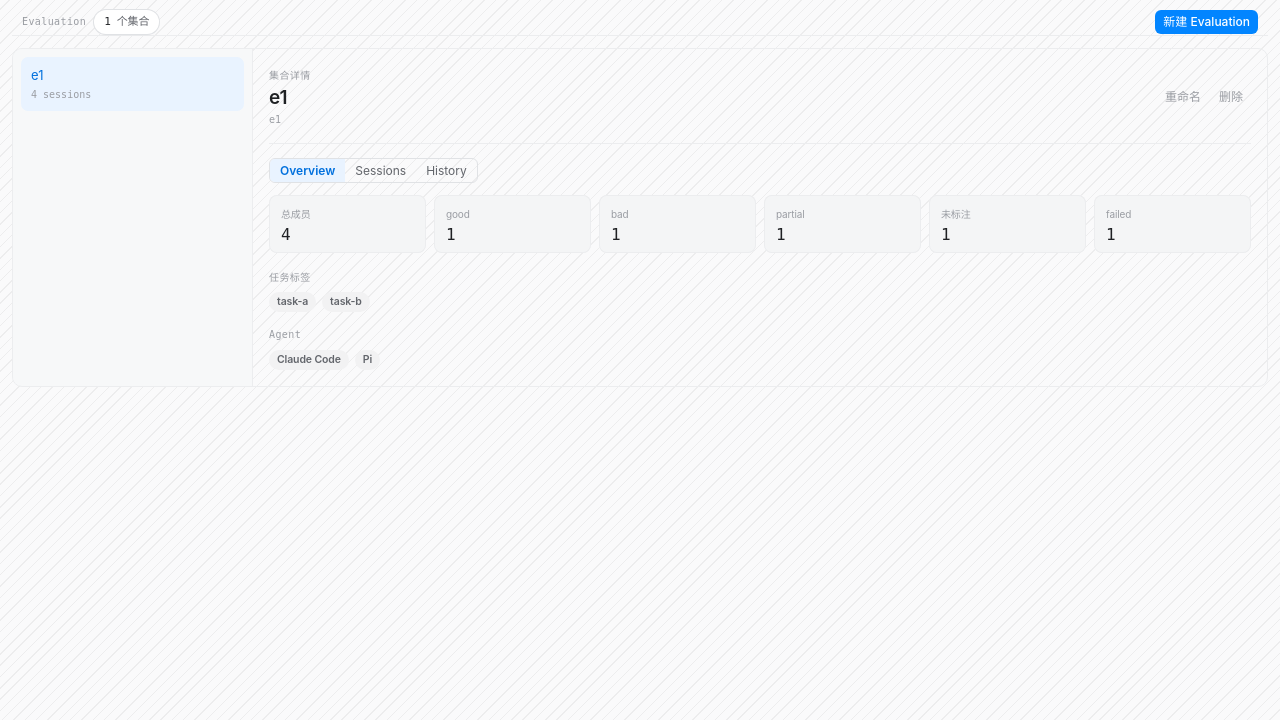
Test: EvaluationView › Sessions tab filters by task label and failed-only
Click the button "Sessions" at (381, 170), box [345, 158, 416, 182]
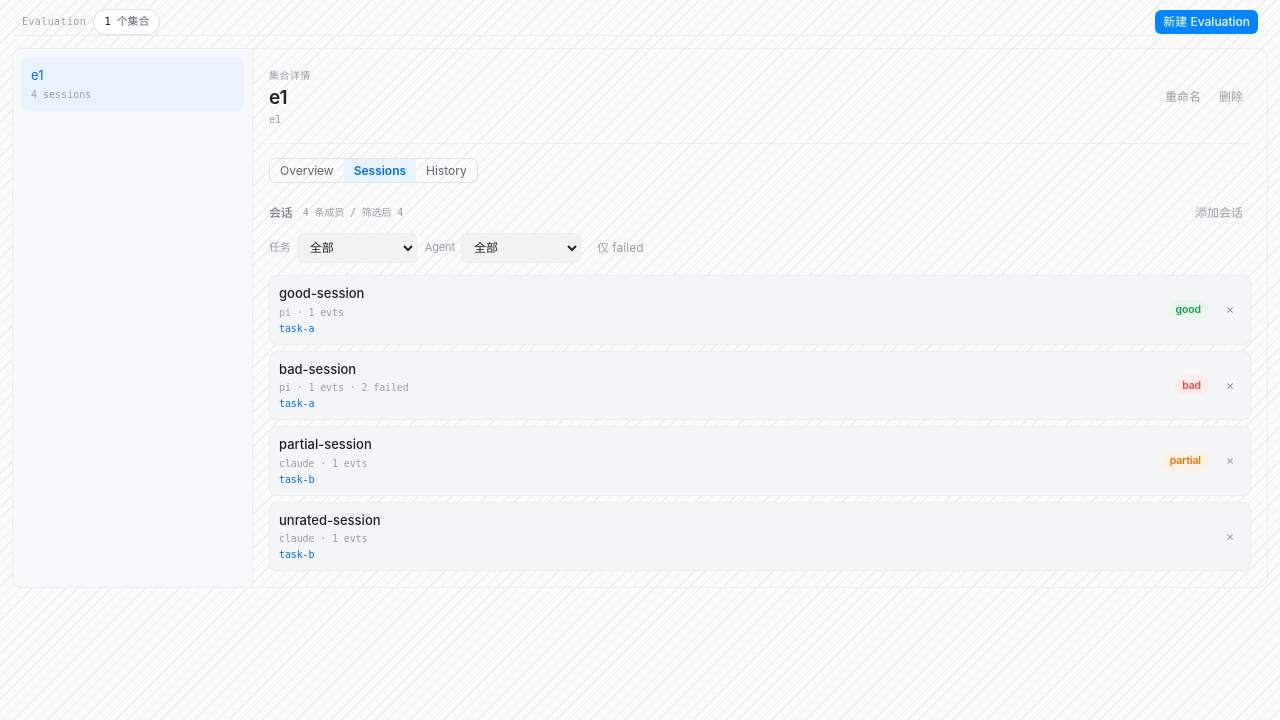
Select "task-a" in the dropdown labelled "任务" at (357, 248), box [297, 233, 417, 263]
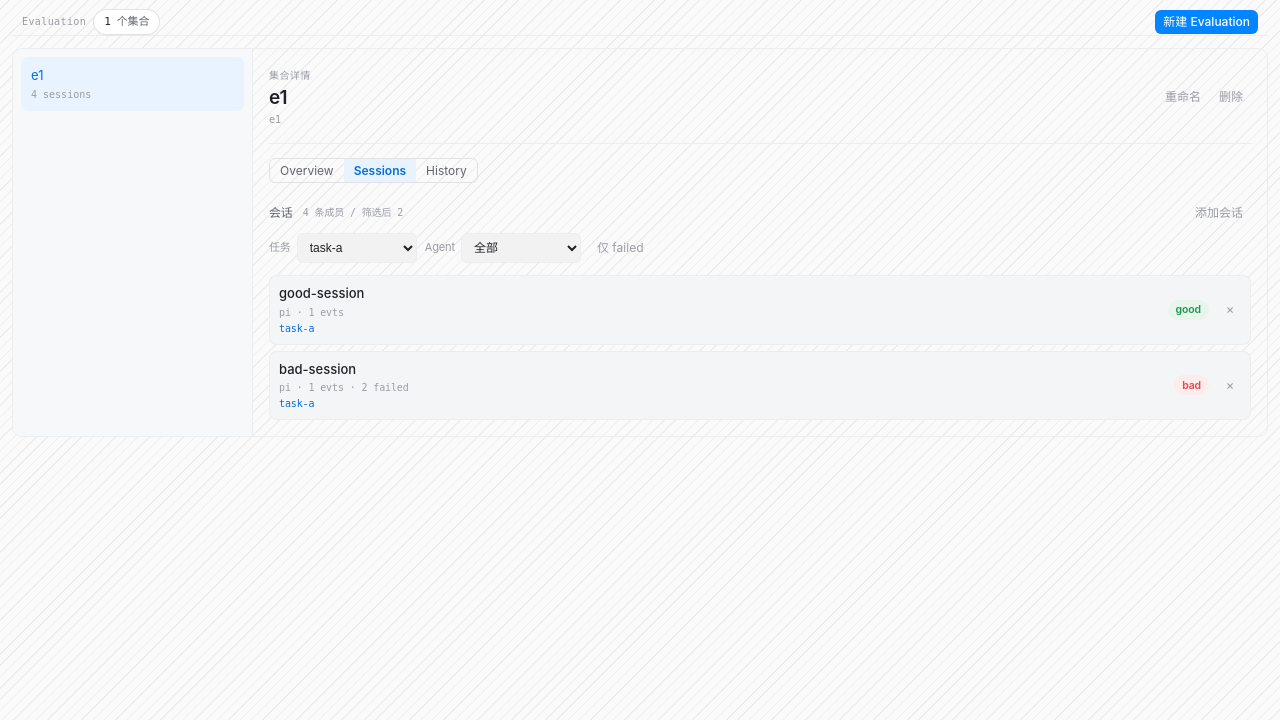
Expected: the button "good-session" is shown, [279, 284, 1158, 304]
Expected: the button "bad-session" is shown, [279, 360, 1164, 379]
Expected: the button "partial-session" is gone
Click the button "仅 failed" at (620, 248), box [589, 236, 652, 260]
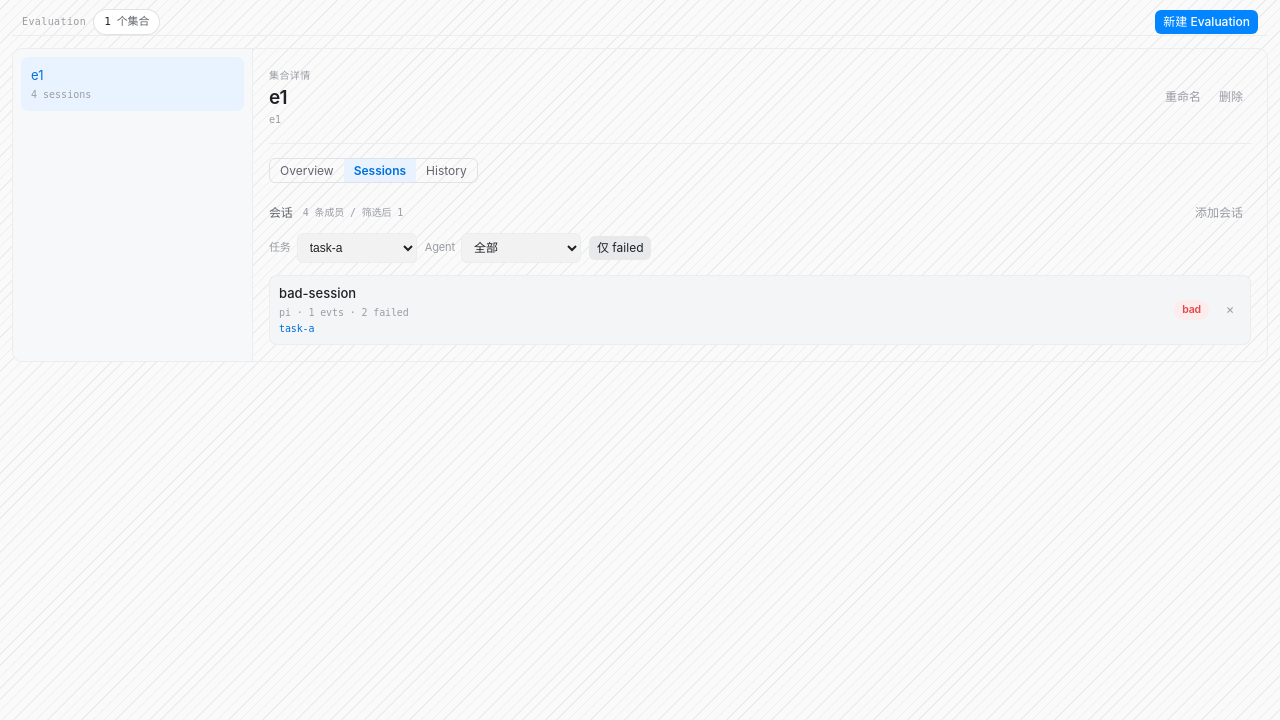
Expected: the button "bad-session" is shown, [279, 284, 1164, 304]
Expected: the button "good-session" is gone
